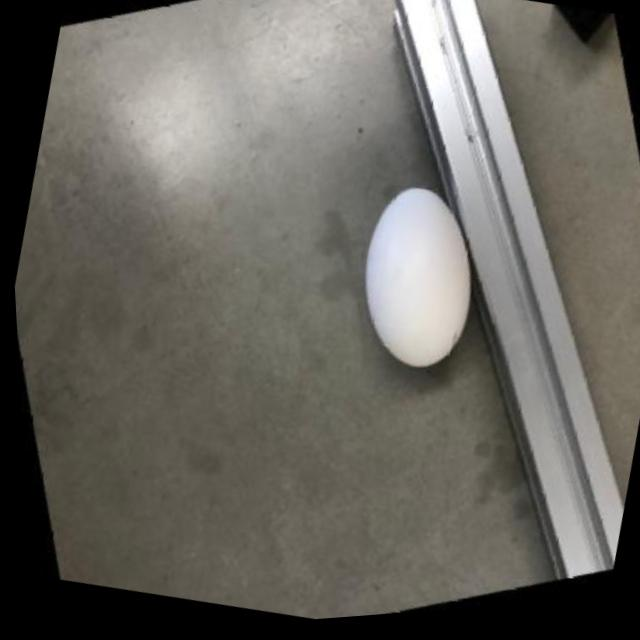egg: (331, 170, 500, 398)
